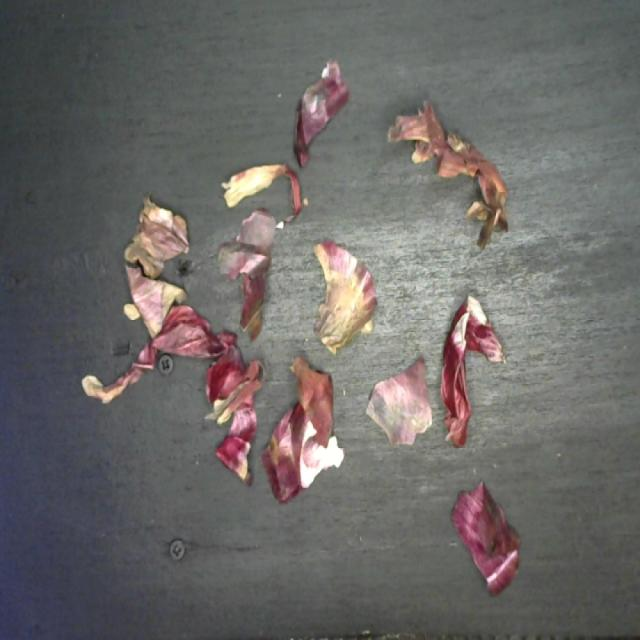biodegradable: (75, 53, 522, 597)
